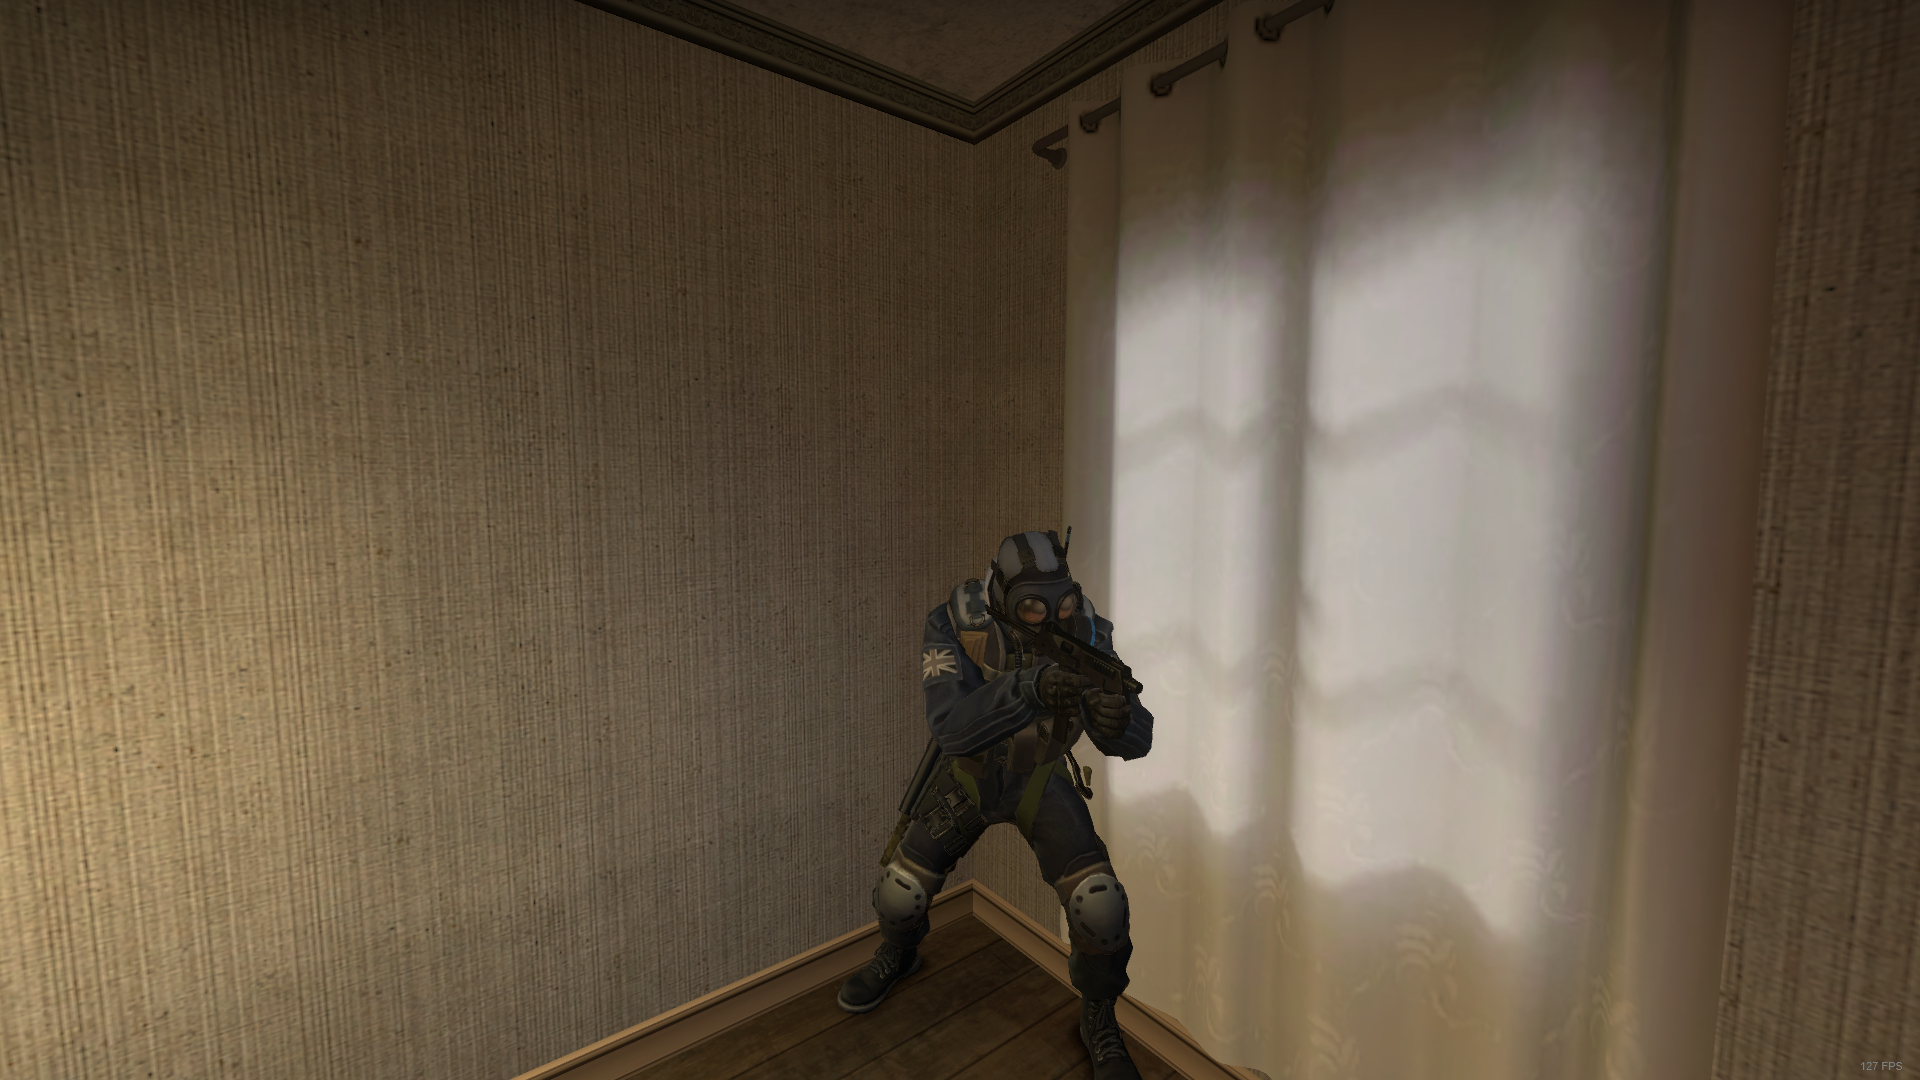ct: (831, 517, 1156, 1080)
